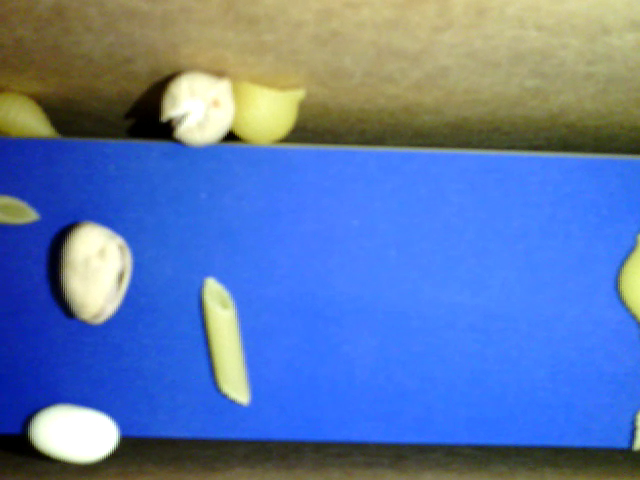penne: (200, 273, 252, 405), (1, 192, 40, 226)
shell: (227, 79, 309, 144), (1, 87, 68, 135), (614, 228, 639, 328)
